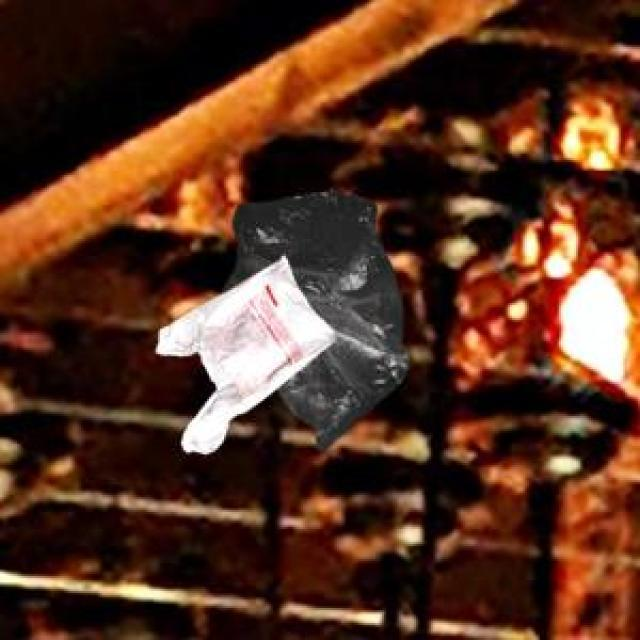waste: (158, 192, 409, 453)
